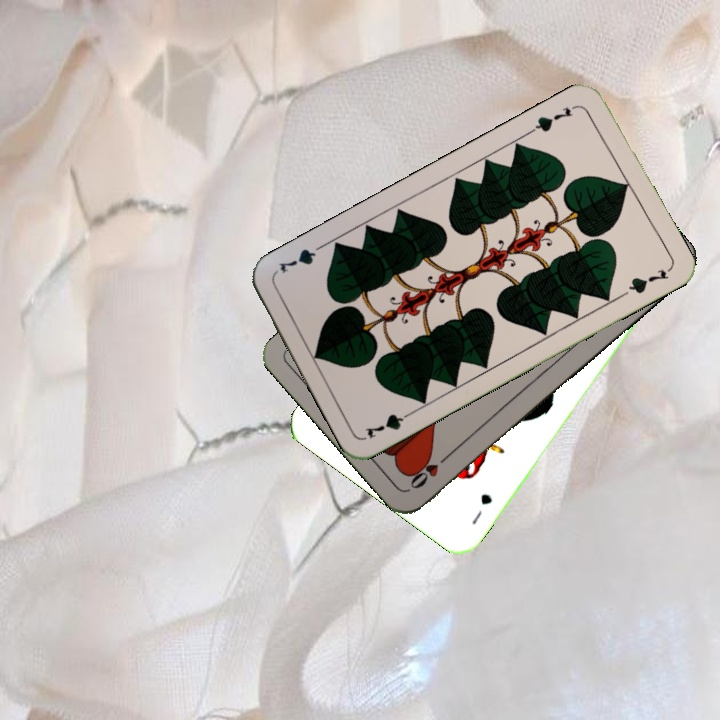G7: (361, 406, 418, 441), (526, 103, 576, 136)
GU: (467, 489, 495, 528)
HO: (406, 448, 454, 492)
